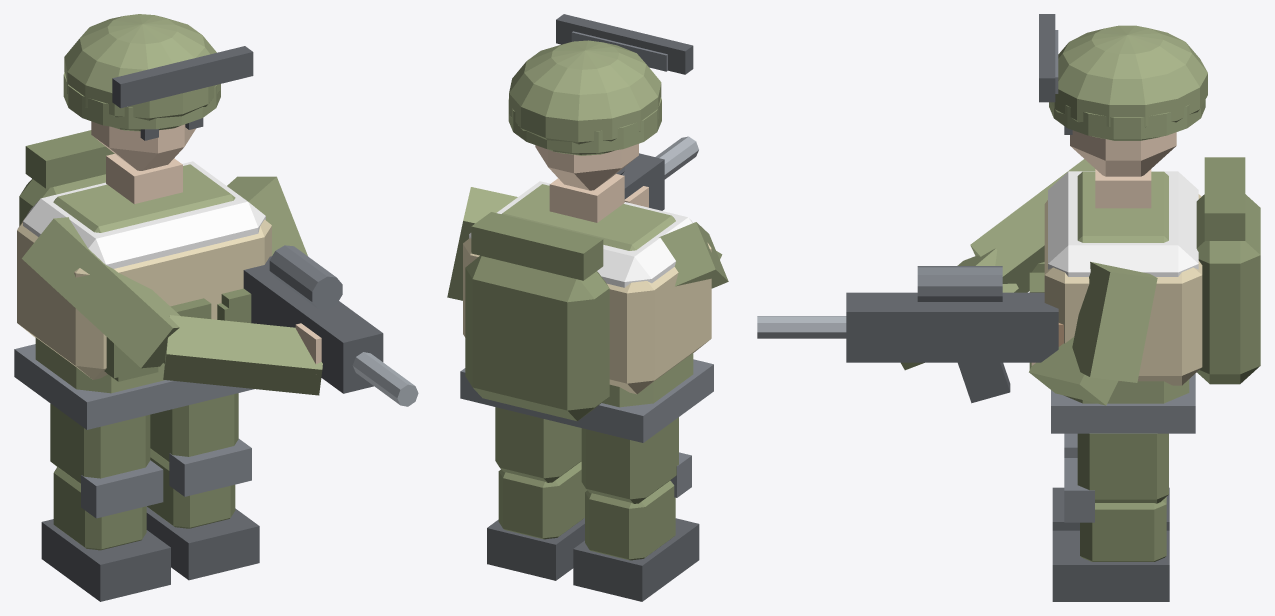
The model's file is ranger.glb.
3 views of the same model, side by side, from view 1: azimuth 30°, elevation 25°; view 2: azimuth 150°, elevation 25°; view 3: azimuth 270°, elevation 25° (orthographic). The views are drawn at different scales.
Visible parts, largest first — view 1: main, shinl, shinr, legl, legr; view 2: main, shinl, shinr, legl, legr; view 3: main, shinr, legr, shinl.
Part boxes in pixels (bbox=[...]): main: bbox=[14, 14, 418, 429]; shinl: bbox=[41, 460, 170, 601]; shinr: bbox=[146, 439, 259, 580]; legl: bbox=[50, 403, 150, 483]; legr: bbox=[150, 393, 238, 461]; main: bbox=[447, 14, 728, 442]; shinl: bbox=[573, 452, 699, 601]; shinr: bbox=[487, 461, 587, 580]; legl: bbox=[581, 417, 678, 503]; legr: bbox=[495, 407, 581, 482]; main: bbox=[757, 14, 1260, 433]; shinr: bbox=[1052, 458, 1169, 601]; legr: bbox=[1077, 433, 1168, 503]; shinl: bbox=[1052, 433, 1169, 530].
Size of the model in its own units: 0.3161 by 0.5733 by 0.4949.
